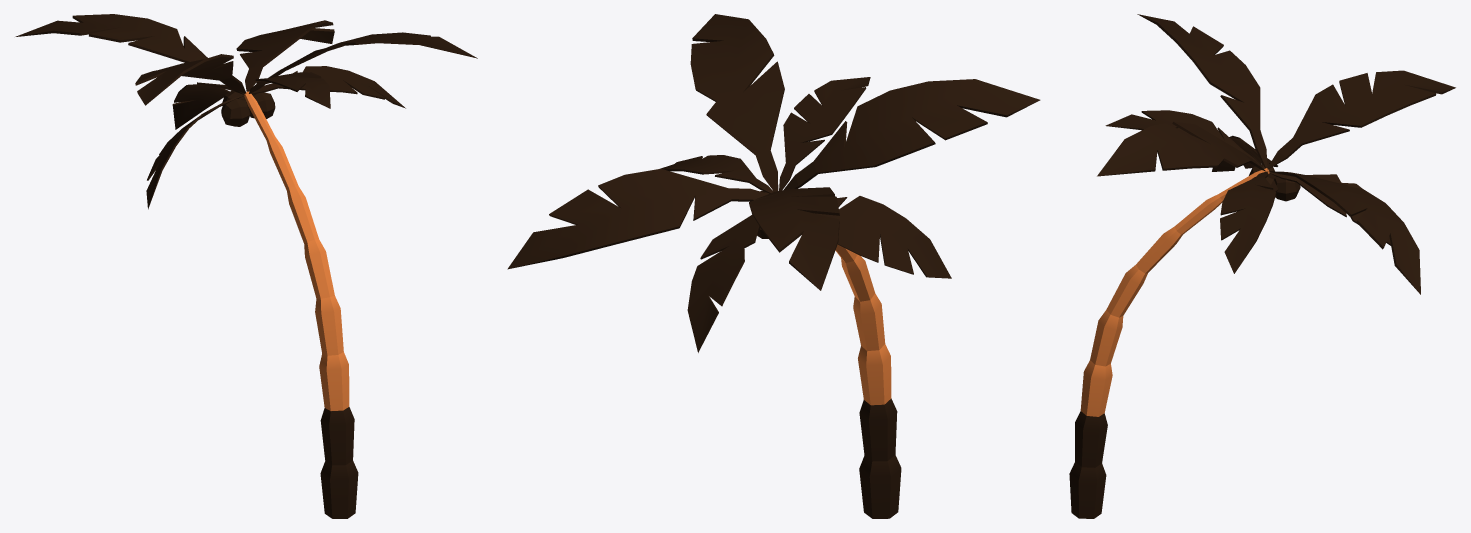
Rendered from LP_Coco_palm_Unwrap 1.fbx.
3 views of the same model, side by side, from view 1: azimuth 30°, elevation 25°; view 2: azimuth 150°, elevation 25°; view 3: azimuth 270°, elevation 25° (orthographic). The views are drawn at different scales.
Parts seen in each view (by area): view 1: Leaves, Trunk, Coconut; view 2: Leaves, Trunk; view 3: Leaves, Trunk, Coconut.
Boxes of the visible parts, x1,y1,x2,y2 form: Leaves: (15, 14, 477, 209); Trunk: (244, 91, 358, 518); Coconut: (221, 90, 275, 126); Leaves: (507, 14, 1040, 352); Trunk: (835, 244, 901, 518); Leaves: (1097, 14, 1455, 294); Trunk: (1069, 168, 1269, 518); Coconut: (1249, 164, 1300, 201).
Size of the model in its own units: 428 by 547 by 443.
